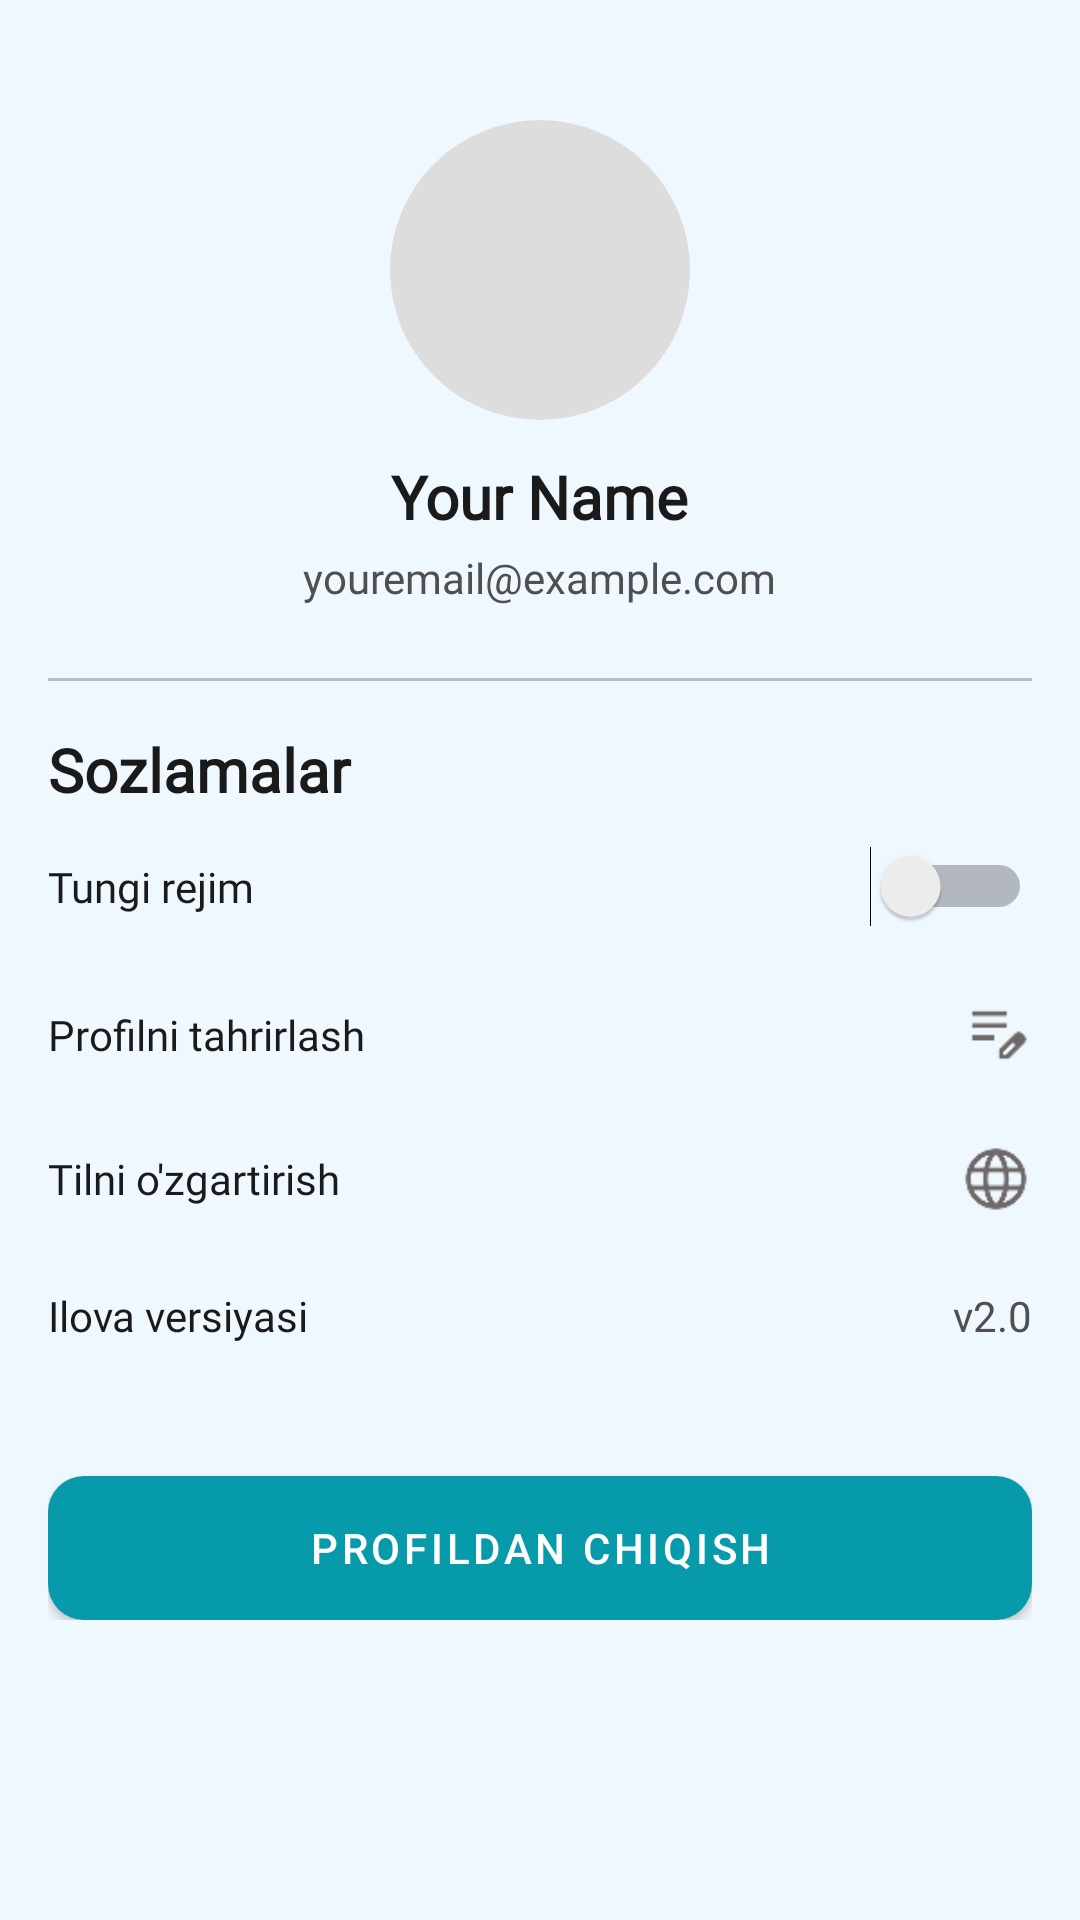

Icons on this 1080 x 1920 Android screen, each with its box as detection(x1, y1, x2, y2):
edit: detection(972, 1011, 1027, 1059)
language: detection(965, 1148, 1027, 1210)
